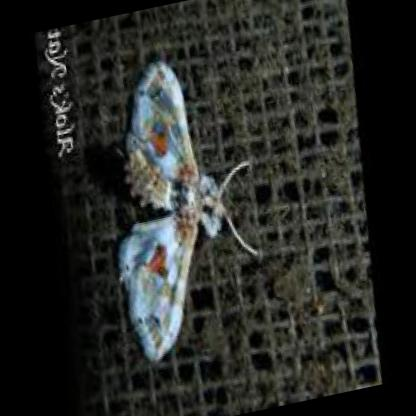leucinodes: (120, 59, 226, 362)
